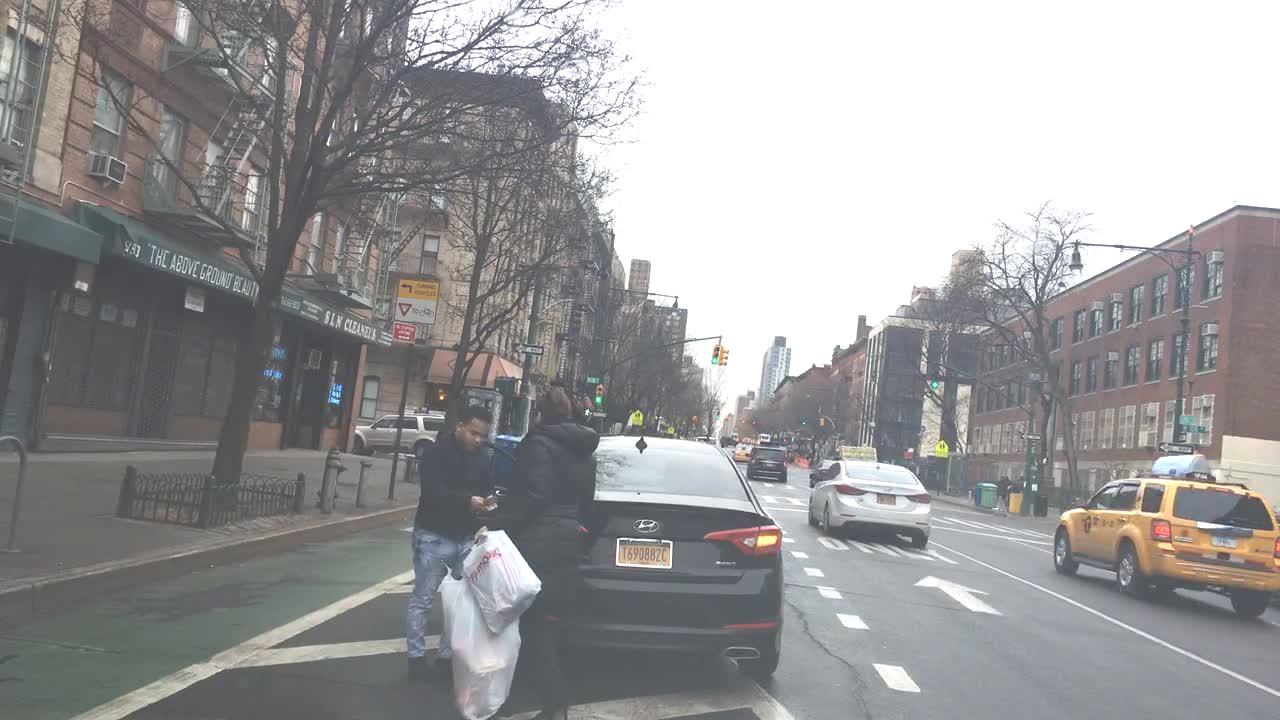Hyundai: (629, 510, 672, 546)
